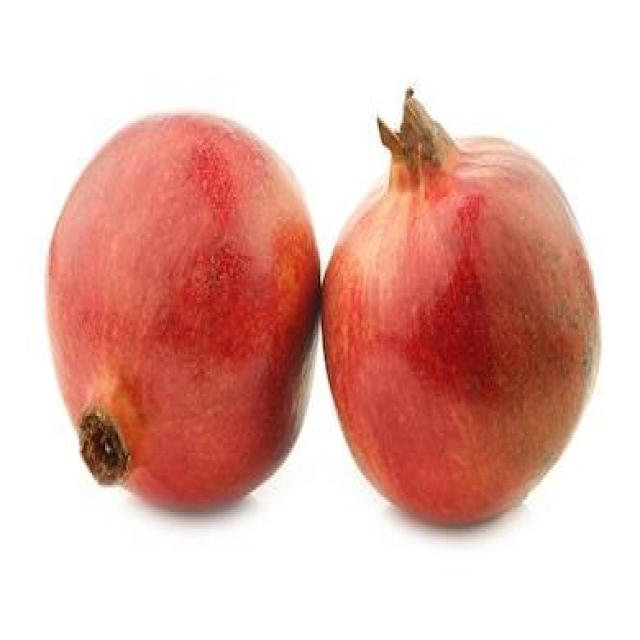Pomegranate: (323, 82, 602, 530), (42, 112, 326, 519)
